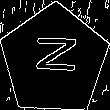N_W: (30, 39, 79, 81)
